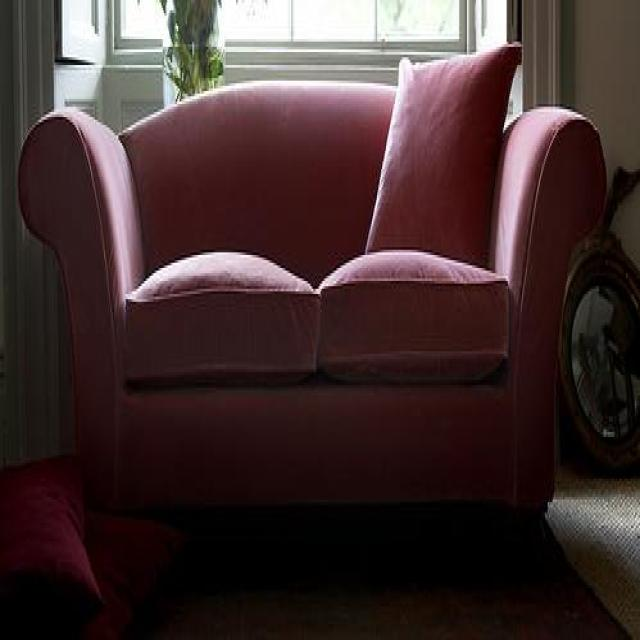sofa: (16, 42, 609, 540)
